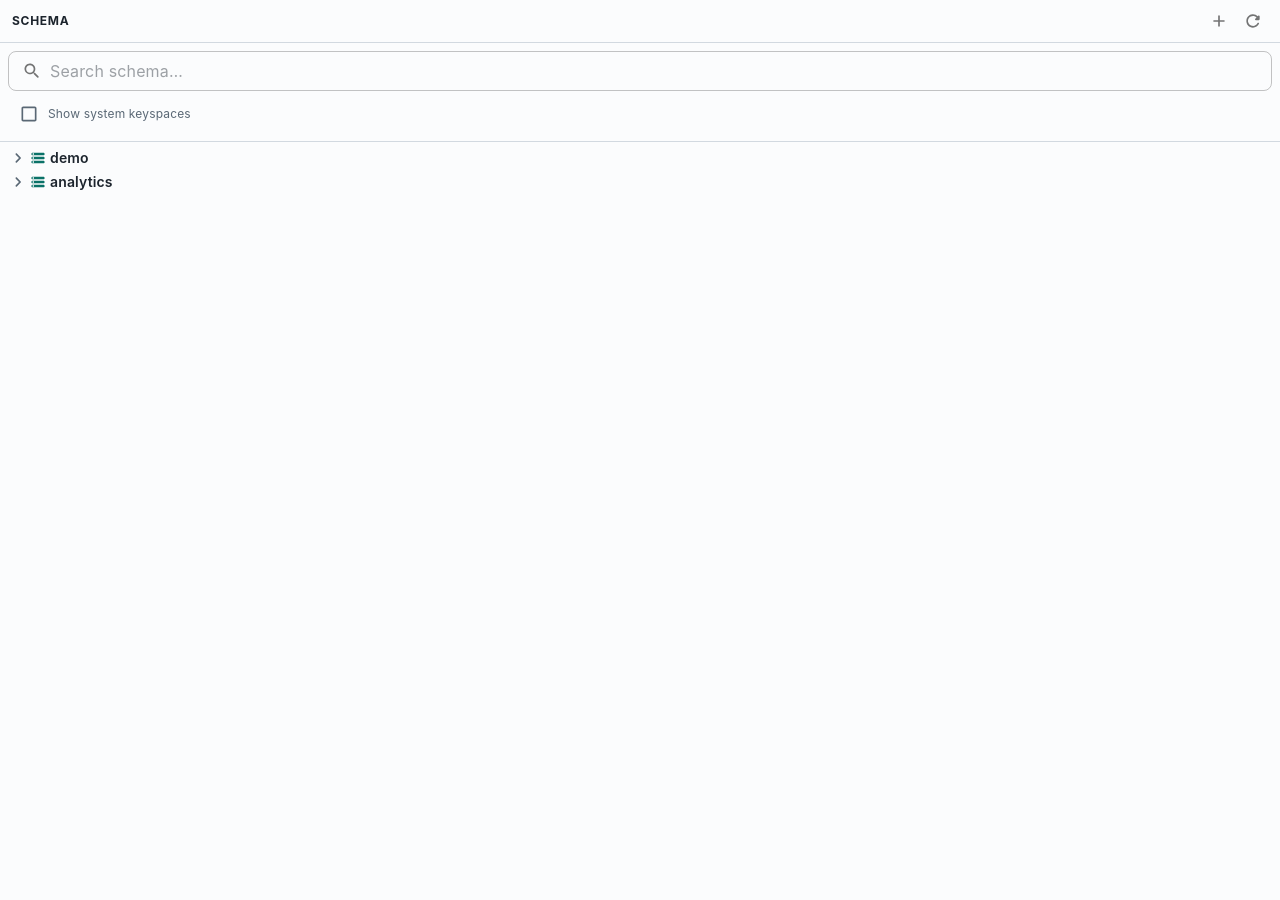
Test case: SchemaSidebar › opens the DDL editor from the "New object" menu
This screenshot has width=1280, height=900.
What coordinates should you click on to do the following:
click the button with test id "new-object"
I would click on:
 (1219, 21)
Its box is [1204,6,1234,36].
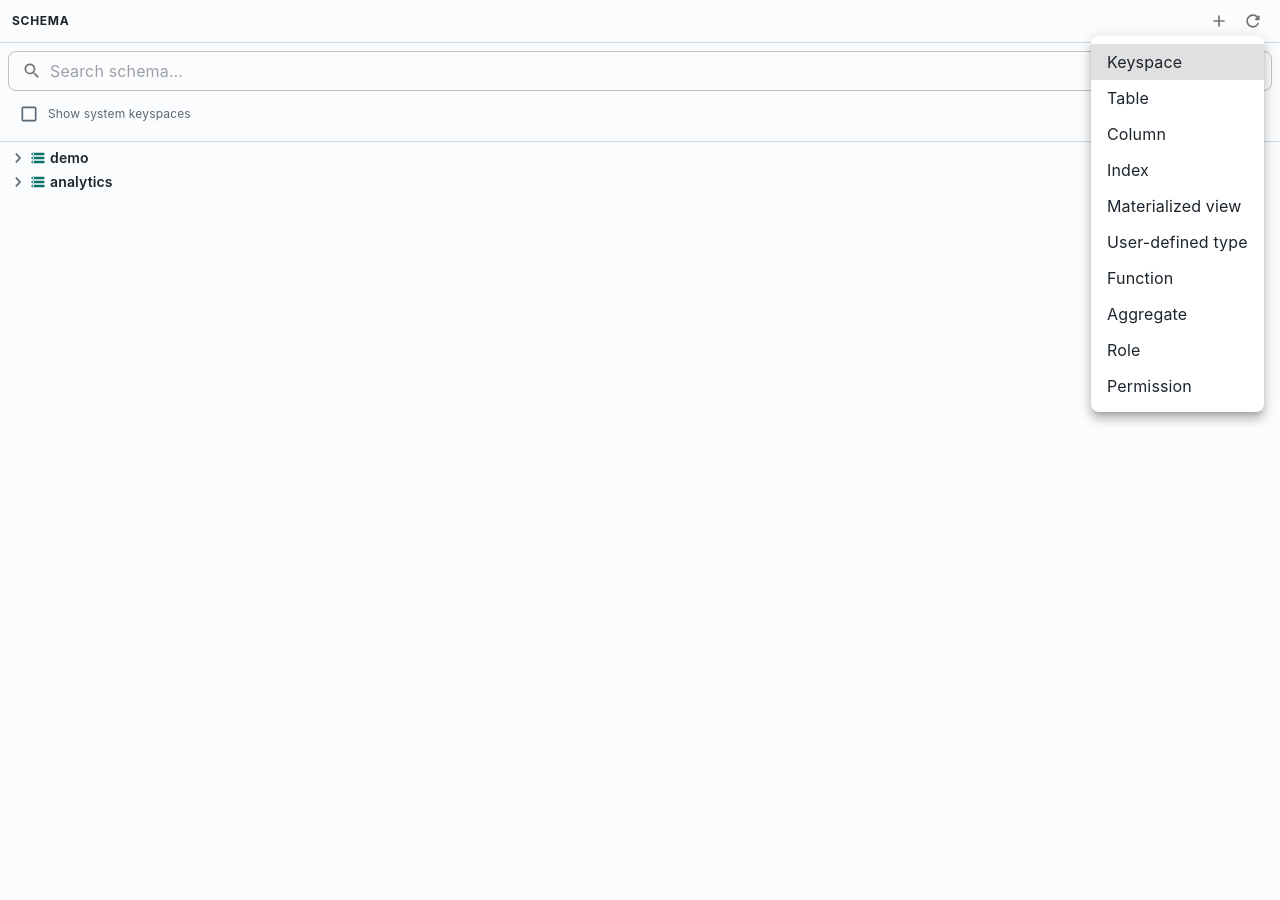
What coordinates should you click on to do the following:
click the menu item with test id "new-object-KEYSPACE"
I would click on:
 (1177, 62)
Its box is [1091,44,1264,80].
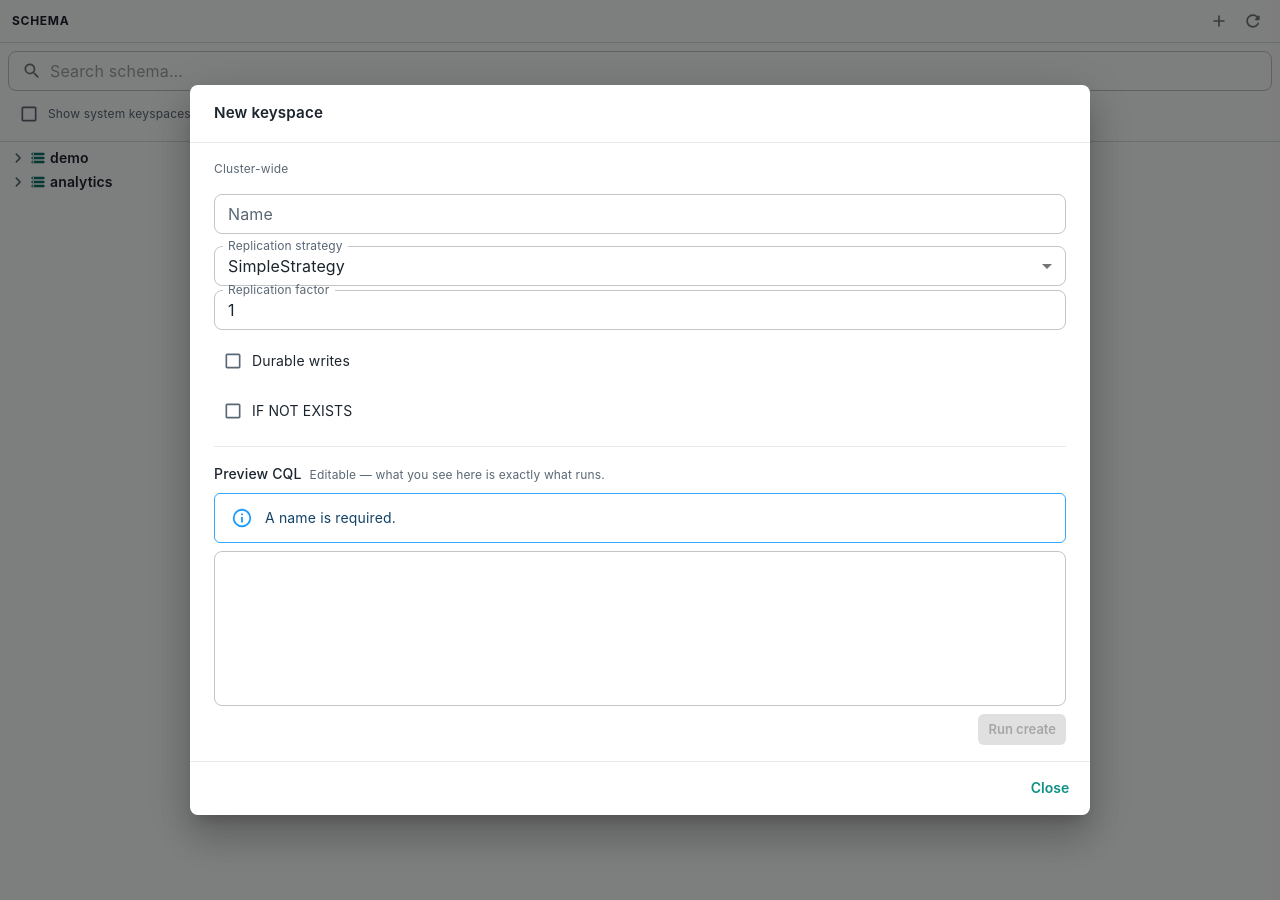
Now the dialog is shown, box [190,85,1090,815]
